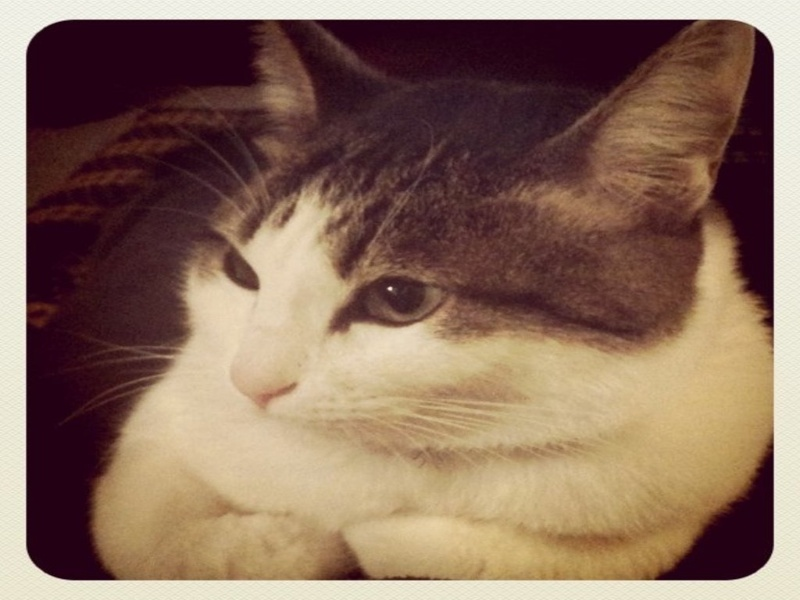cat: (51, 27, 770, 574)
